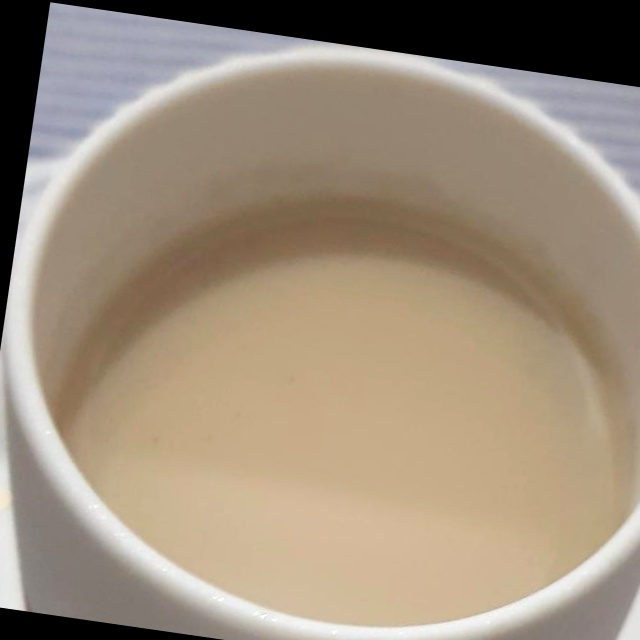Iced Coffee: (0, 4, 640, 640)
